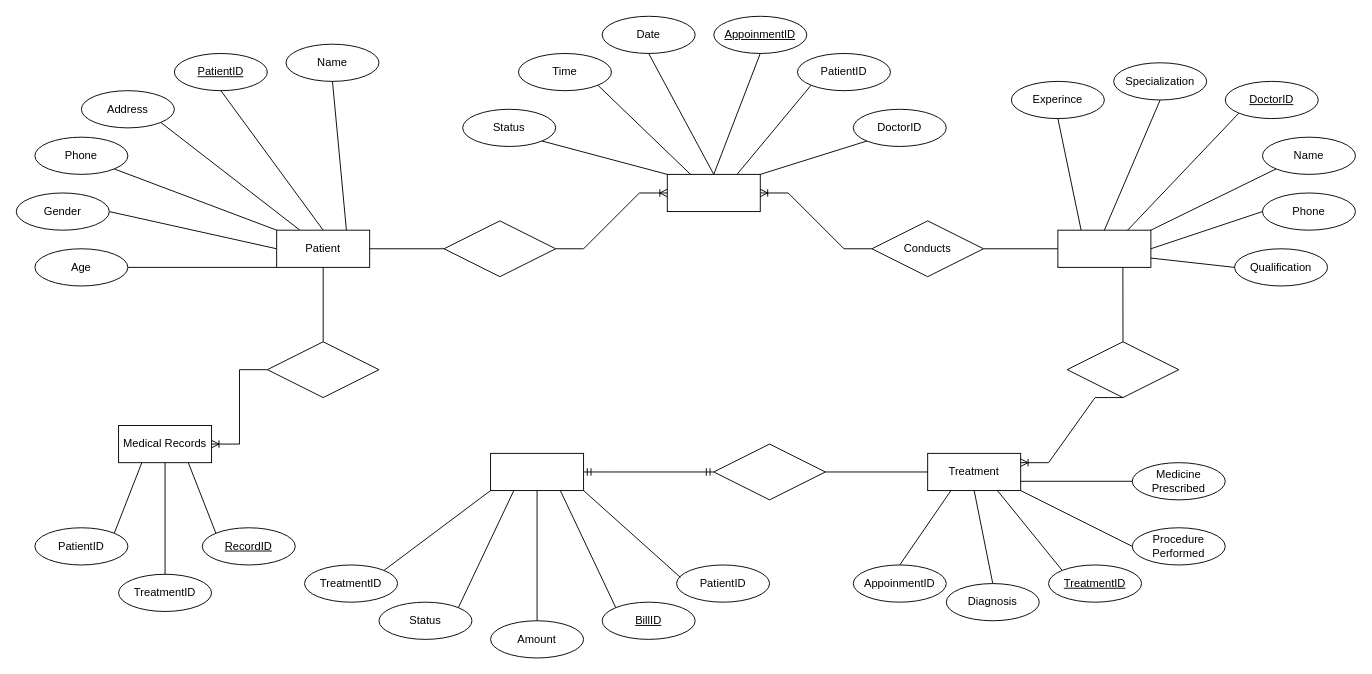
Some shapes in this 1372 by 674 pixel diagram are drawn without their labels. Here are the shapes that lost their labels. From the top down, the centre of each, then its label:
(x=713, y=192): Appoinment
(x=499, y=248): Takes
(x=1104, y=248): Doctor
(x=322, y=369): Relationship
(x=1122, y=369): Performs
(x=537, y=471): Bill
(x=769, y=471): Costs
